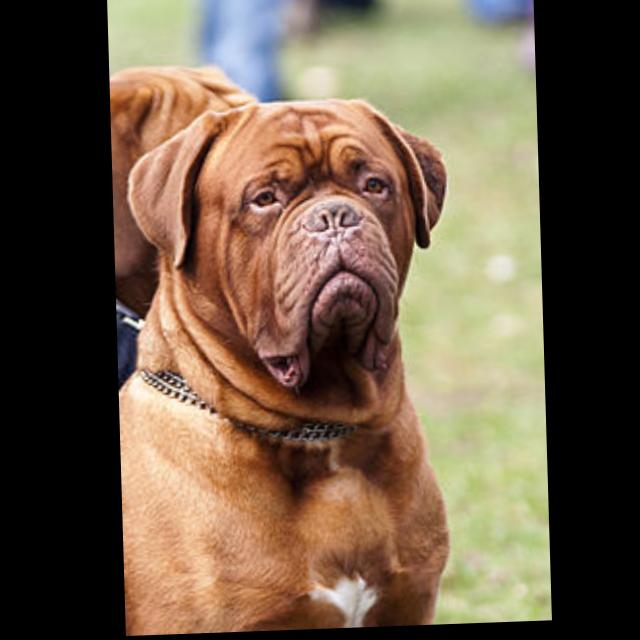dogue_de_bordeaux: (111, 103, 457, 637), (110, 65, 268, 427)
